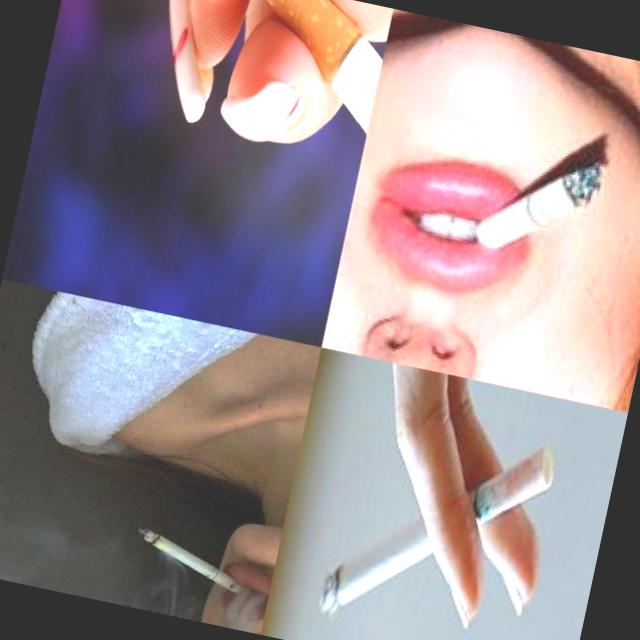smoke: (159, 0, 392, 320), (316, 402, 559, 640), (473, 144, 604, 268), (128, 526, 260, 598)
